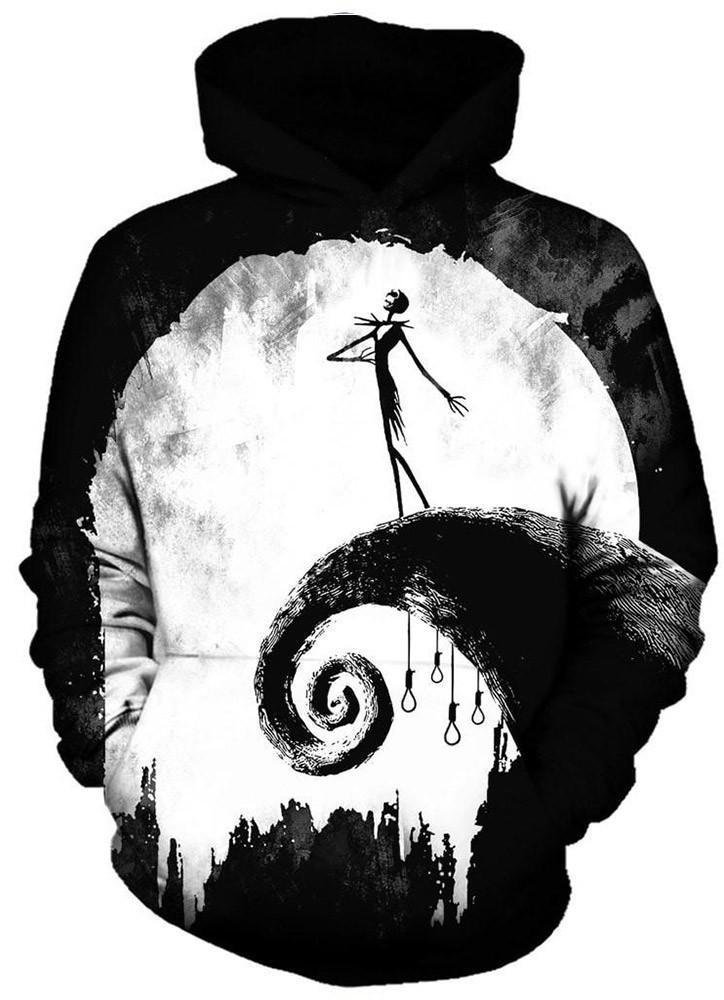Jack Skellington: (324, 287, 474, 525)
